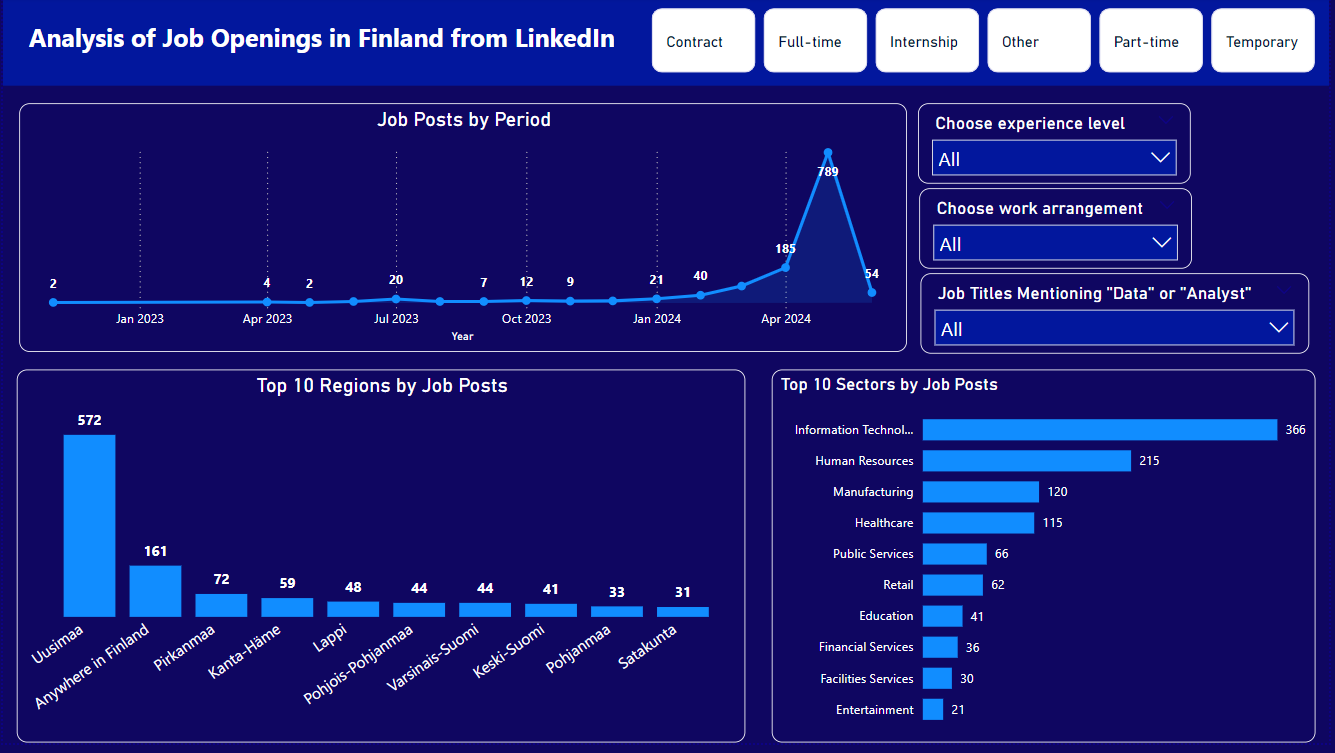

The page's visual inventory and layout, read from the dashboard file:
{"tool":"powerbi","page":{"name":"Page 1","canvas":[1280,720],"ordinal":0},"visuals":[{"type":"lineChart","fields":{"Y":["CountNonNull(Query1.jobUrl)"],"Category":["Query1.formattedPublishedAt2Date.Variation.Date Hierarchy.Year1","Query1.formattedPublishedAt2Date.Variation.Date Hierarchy.Month"]},"box":[15.1,103,857.2,240.4],"z":0},{"type":"columnChart","fields":{"Category":["Query1.regionFormatted"],"Y":["CountNonNull(Query1.jobUrl)"]},"box":[13.6,360,703.5,360],"z":1000},{"type":"textbox","box":[0,0,1280.3,85.9],"z":2000},{"type":"slicer","fields":{"Values":["Query1.experienceLevel"]},"box":[883.3,102.9,263.1,77.7],"z":3000},{"type":"slicer","fields":{"Values":["Query1.workArrangement"]},"box":[884.7,184.7,263.1,77.7],"z":4000},{"type":"clusteredBarChart","fields":{"Category":["Query1.sectorGlobal"],"Y":["CountNonNull(Query1.jobUrl)"]},"box":[741.7,360,524.9,360],"z":5000},{"type":"slicer","fields":{"Values":["Query1.dataTitleCount"]},"box":[885.1,266.5,374.9,77.7],"z":6000},{"type":"advancedSlicerVisual","fields":{"Values":["Query1.contractType"]},"box":[626.6,10.8,640.1,62.3],"z":7000}]}

Visuals, with their boxes in screenshot pixels (x1, y1, x2, y2), scaled from the page's 1280x720 canvas onto the 1335x753 screenshot:
lineChart - CountNonNull(Query1.jobUrl) x Query1.formattedPublishedAt2Date.Variation.Date Hierarchy.Year1: x1=16 y1=108 x2=910 y2=359
columnChart - Query1.regionFormatted x CountNonNull(Query1.jobUrl): x1=14 y1=376 x2=748 y2=752
textbox: x1=0 y1=0 x2=1334 y2=90
slicer - Query1.experienceLevel: x1=921 y1=108 x2=1196 y2=189
slicer - Query1.workArrangement: x1=923 y1=193 x2=1197 y2=274
clusteredBarChart - Query1.sectorGlobal x CountNonNull(Query1.jobUrl): x1=774 y1=376 x2=1321 y2=752
slicer - Query1.dataTitleCount: x1=923 y1=279 x2=1314 y2=360
advancedSlicerVisual - Query1.contractType: x1=654 y1=11 x2=1321 y2=76
